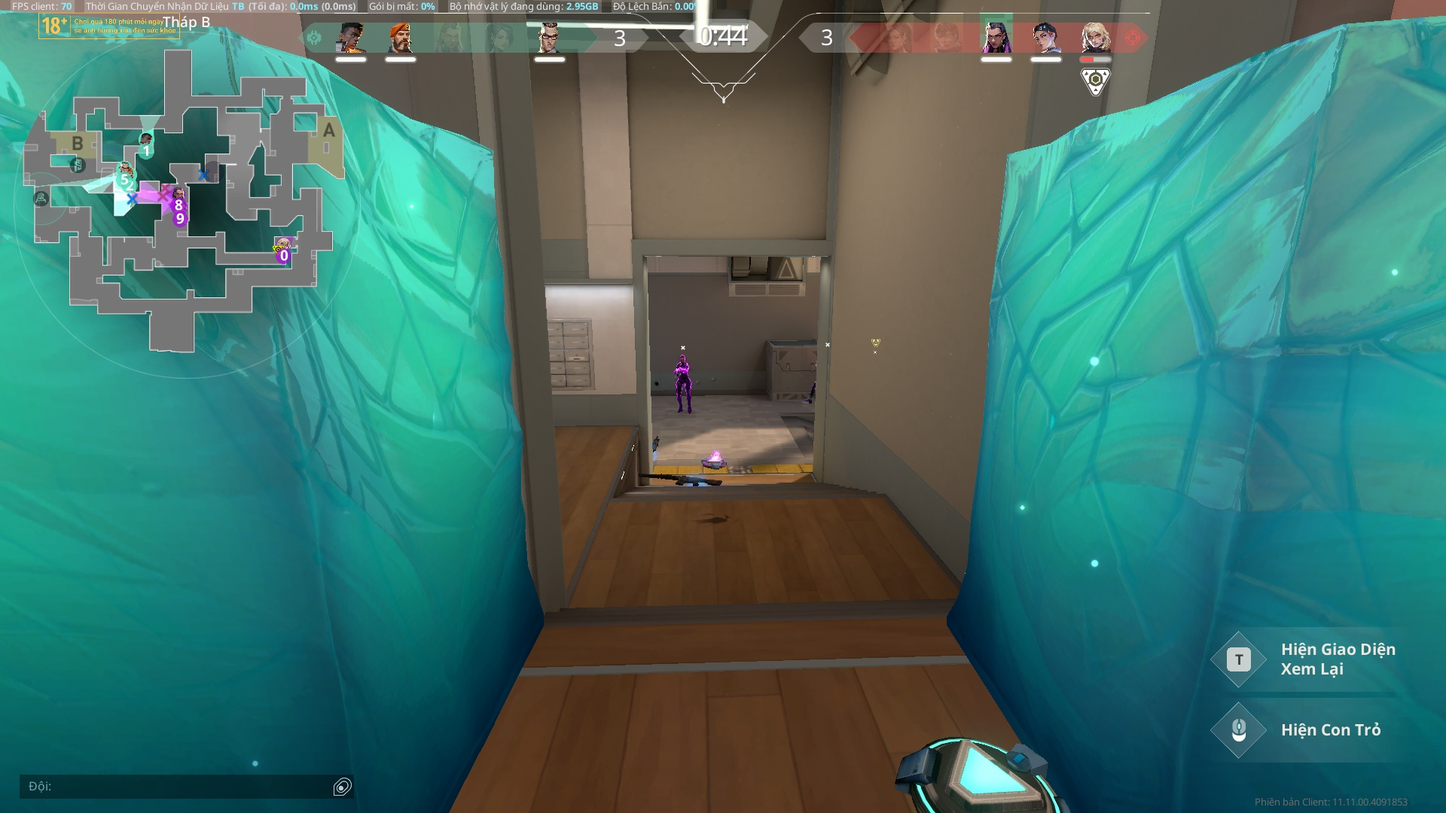body: (676, 362, 691, 379)
head: (679, 353, 686, 363)
